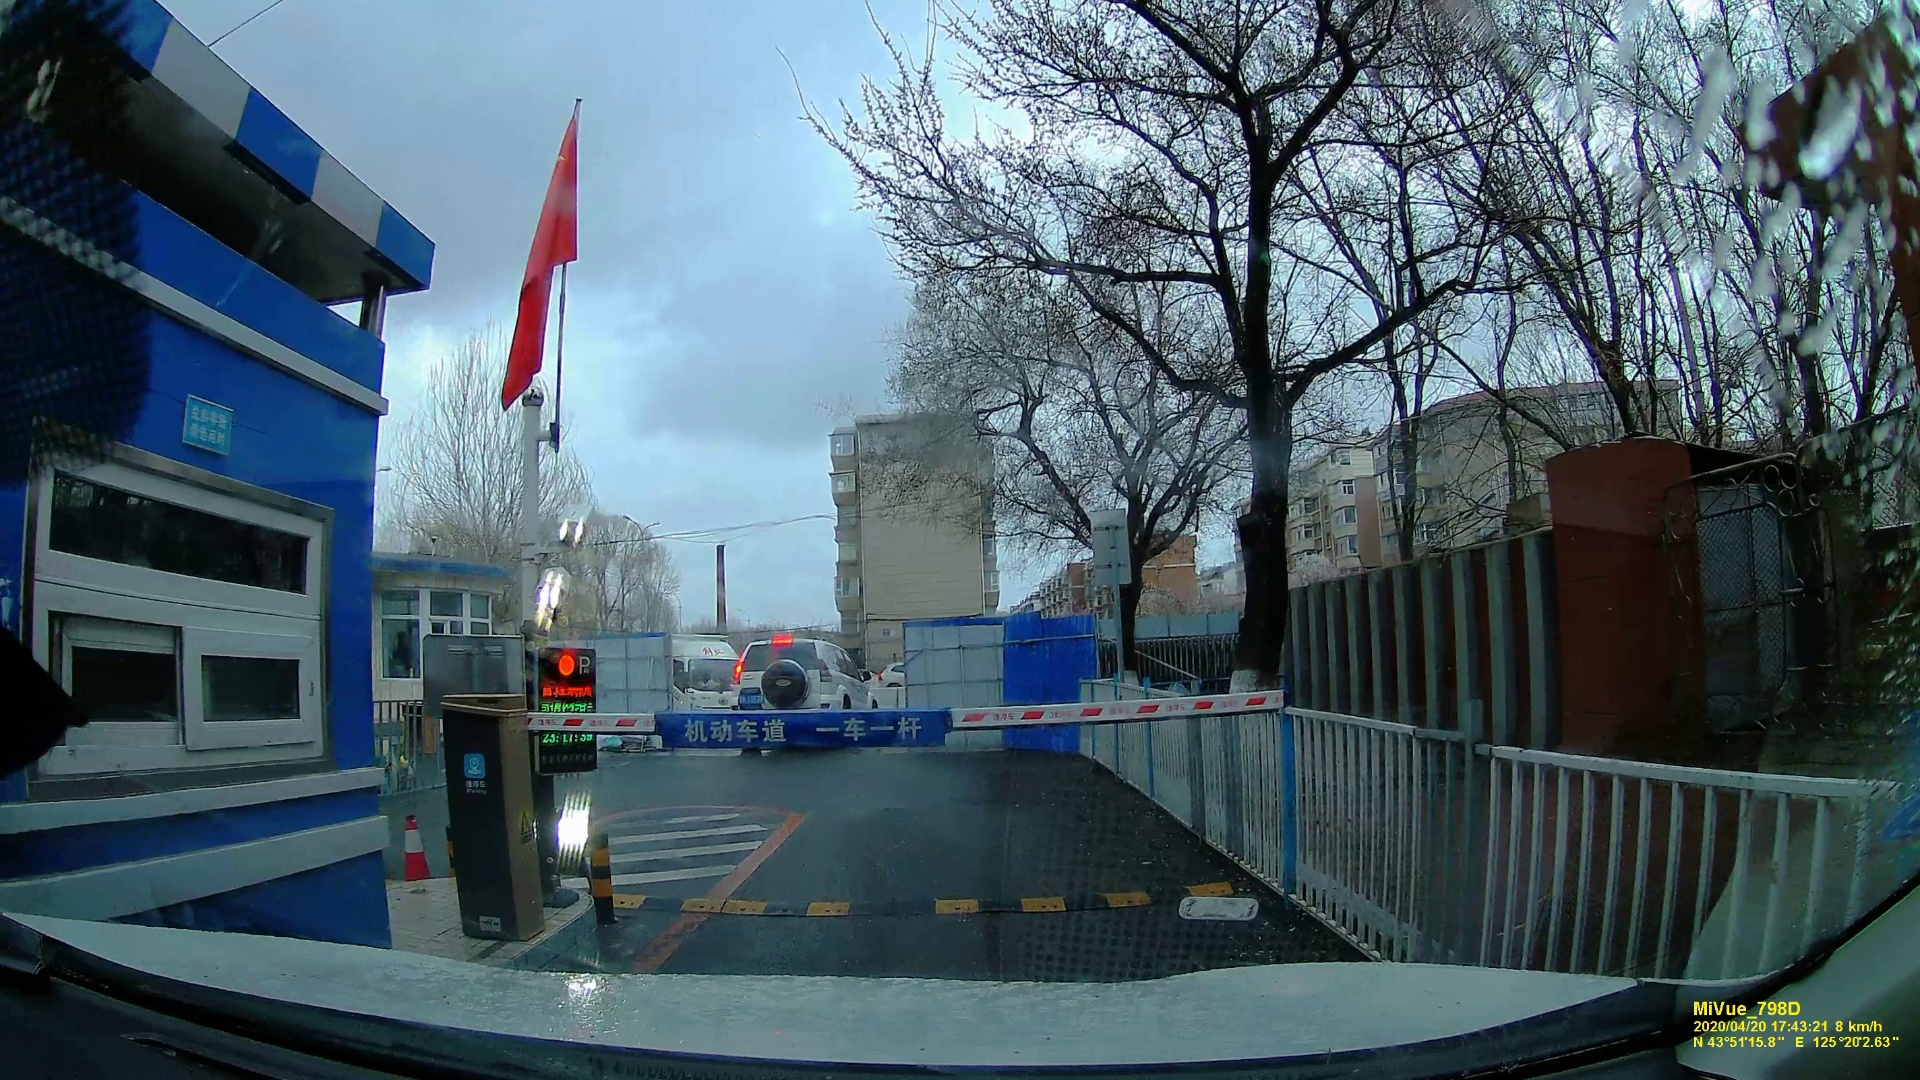truck: (655, 629, 738, 717)
vehicle: (731, 640, 872, 725)
